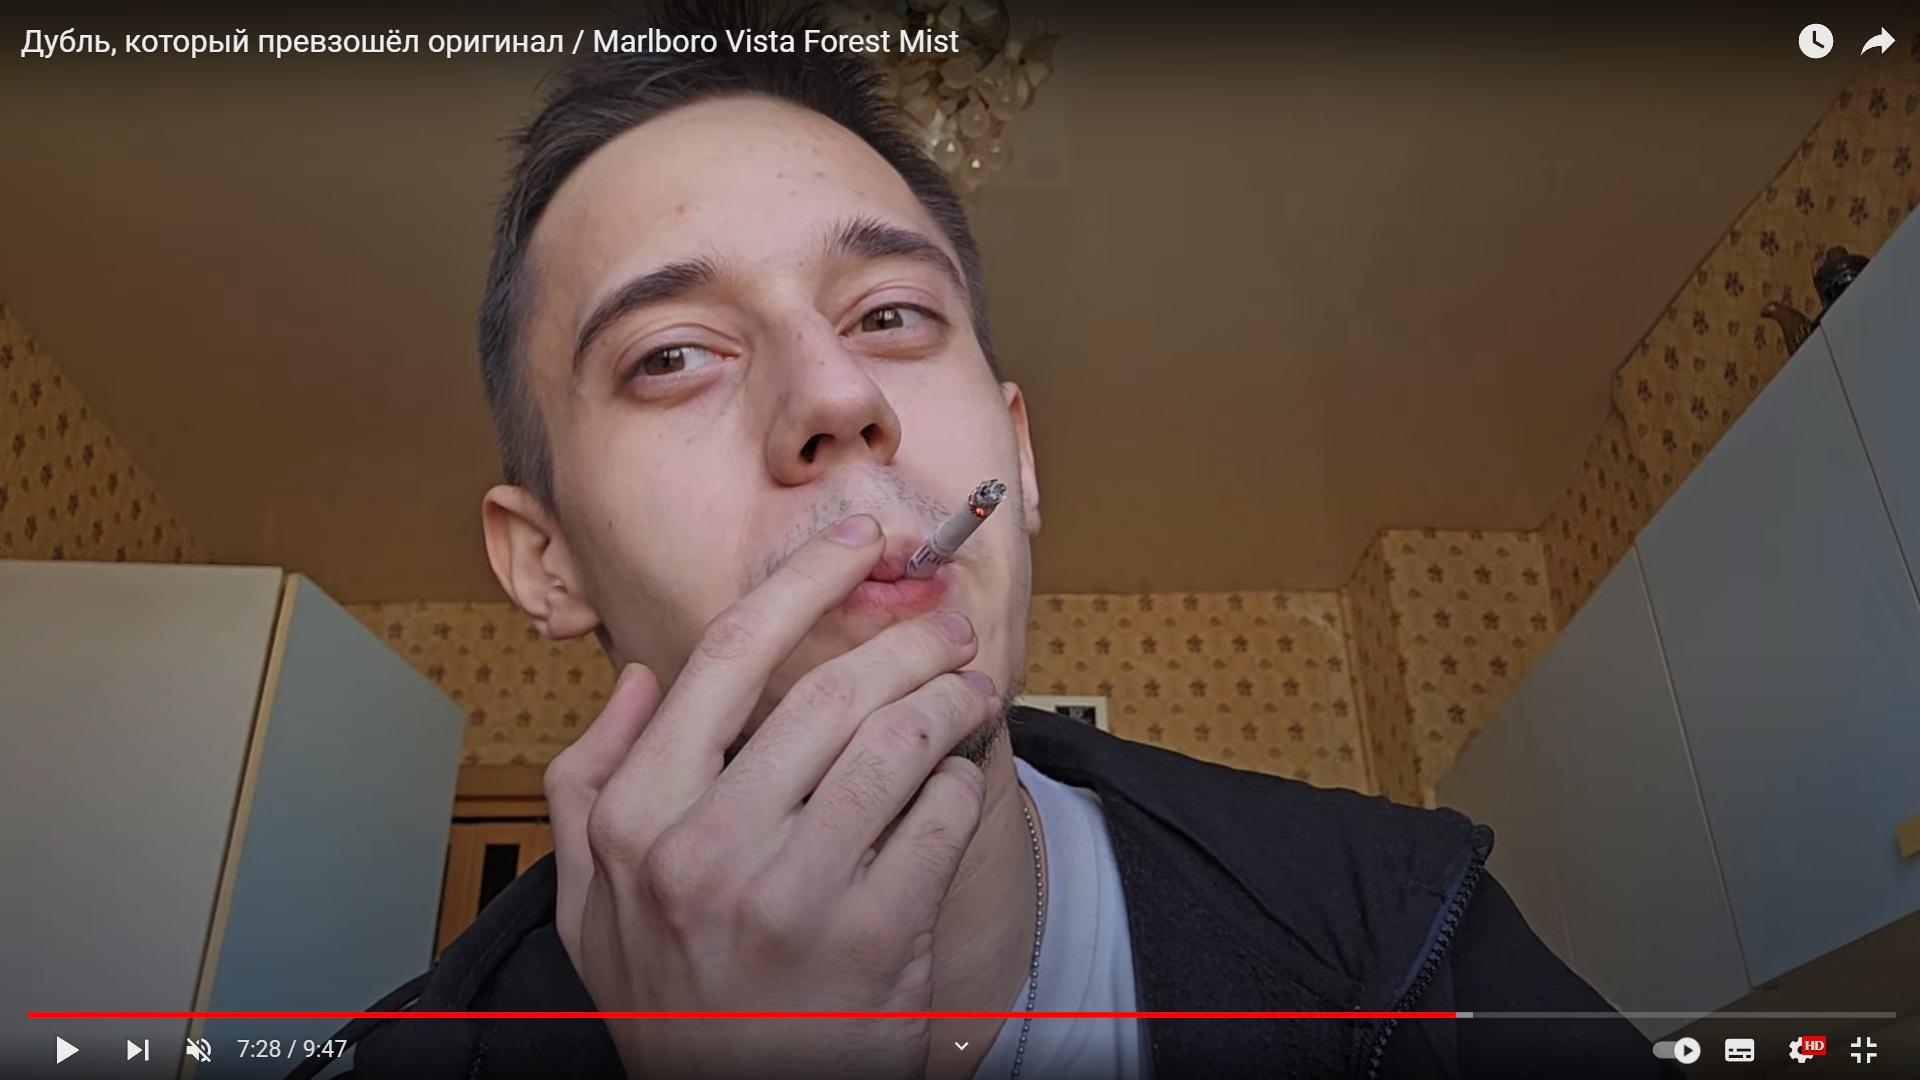cigarette: (903, 480, 1005, 578)
